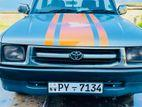car: (1, 0, 142, 98)
